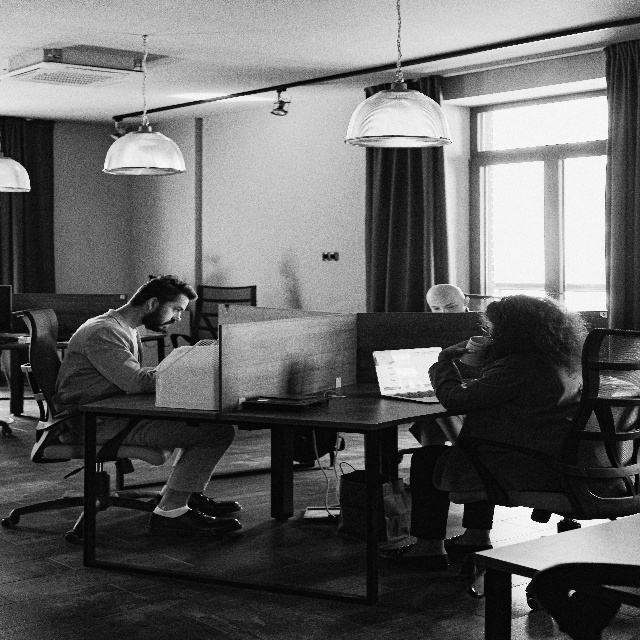Sin_guantes: (440, 338, 475, 362)
